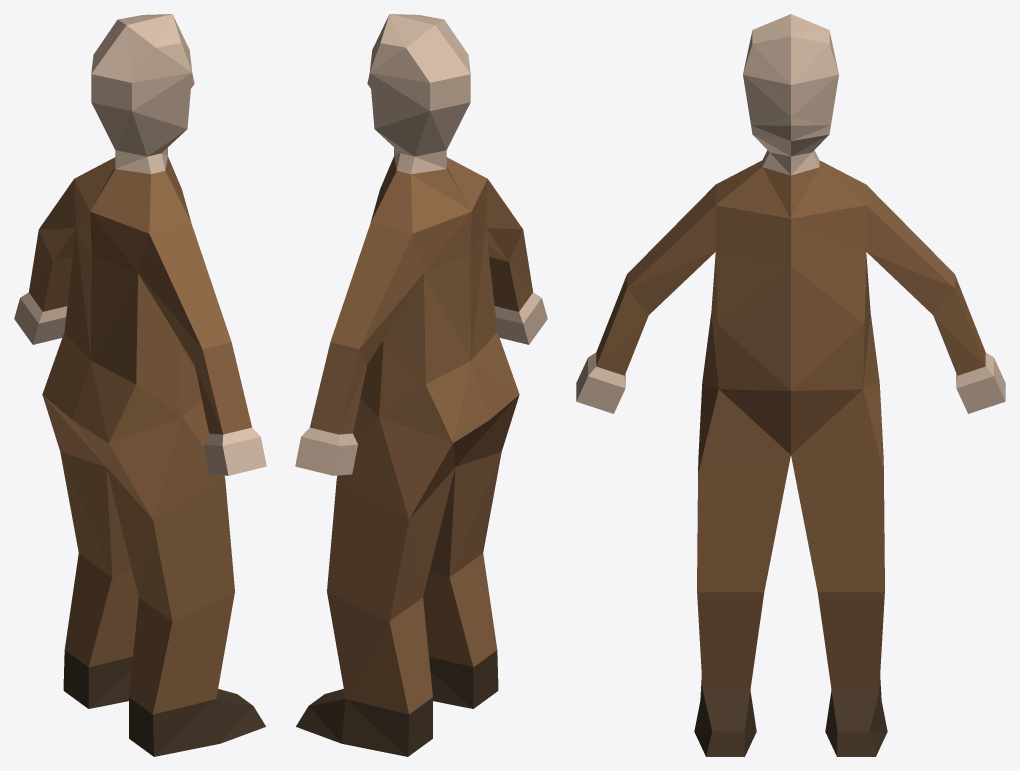
Rendered from person.obj.
The picture shows the model from 3 angles, left to right: view 1: azimuth 30°, elevation 25°; view 2: azimuth 150°, elevation 25°; view 3: azimuth 270°, elevation 25°; orthographic projection.
Visible parts, largest first — view 1: Person_Cube; view 2: Person_Cube; view 3: Person_Cube.
Part boxes in pixels (box(x1,y1,x2,y2)): Person_Cube: box(14, 14, 266, 756); Person_Cube: box(295, 14, 547, 756); Person_Cube: box(576, 14, 1005, 756).
Bounding box in the file's own units: 1.21 × 5.3 × 2.97.
Materials: 1 (1 with a texture image).
